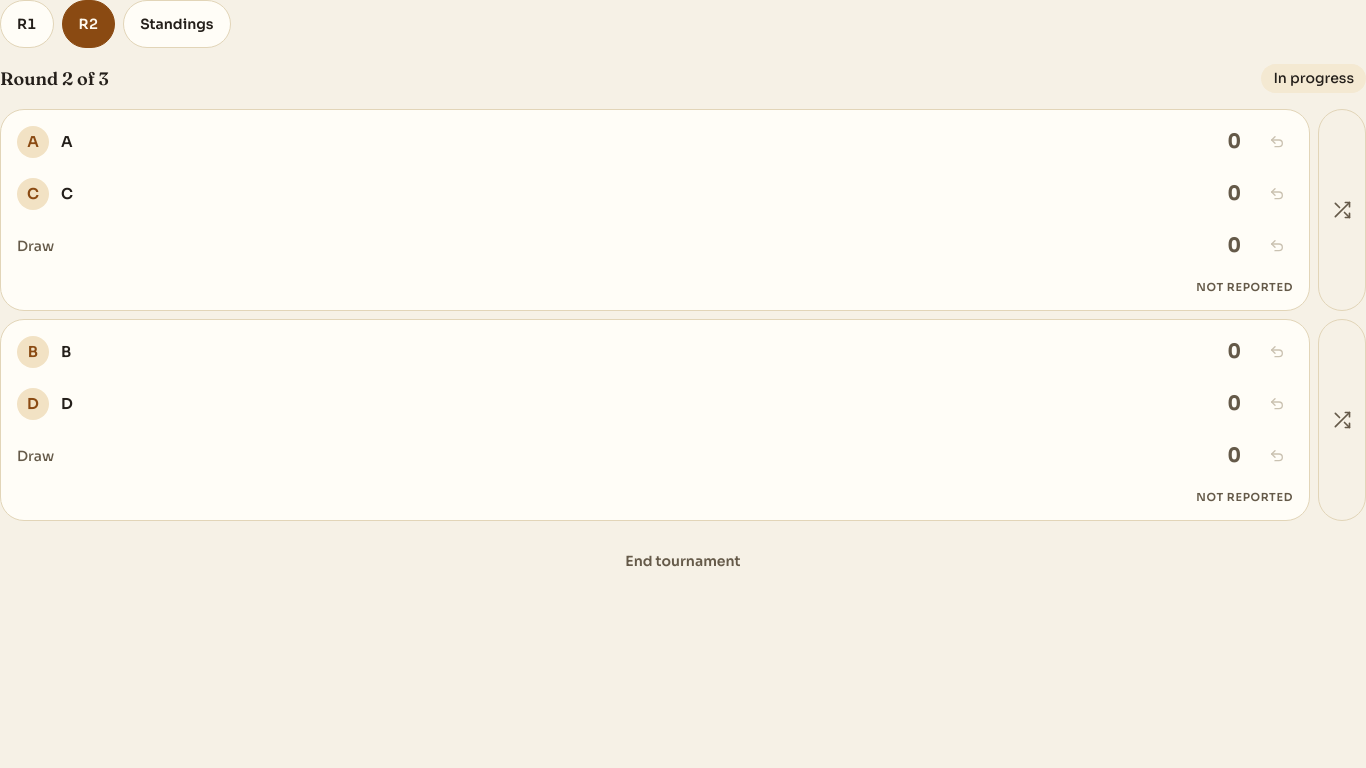
Test: SwissScreen › re-pairs later rounds when a corrected result asks for it
Click the button "R1": (27, 24) [0,0,54,48]
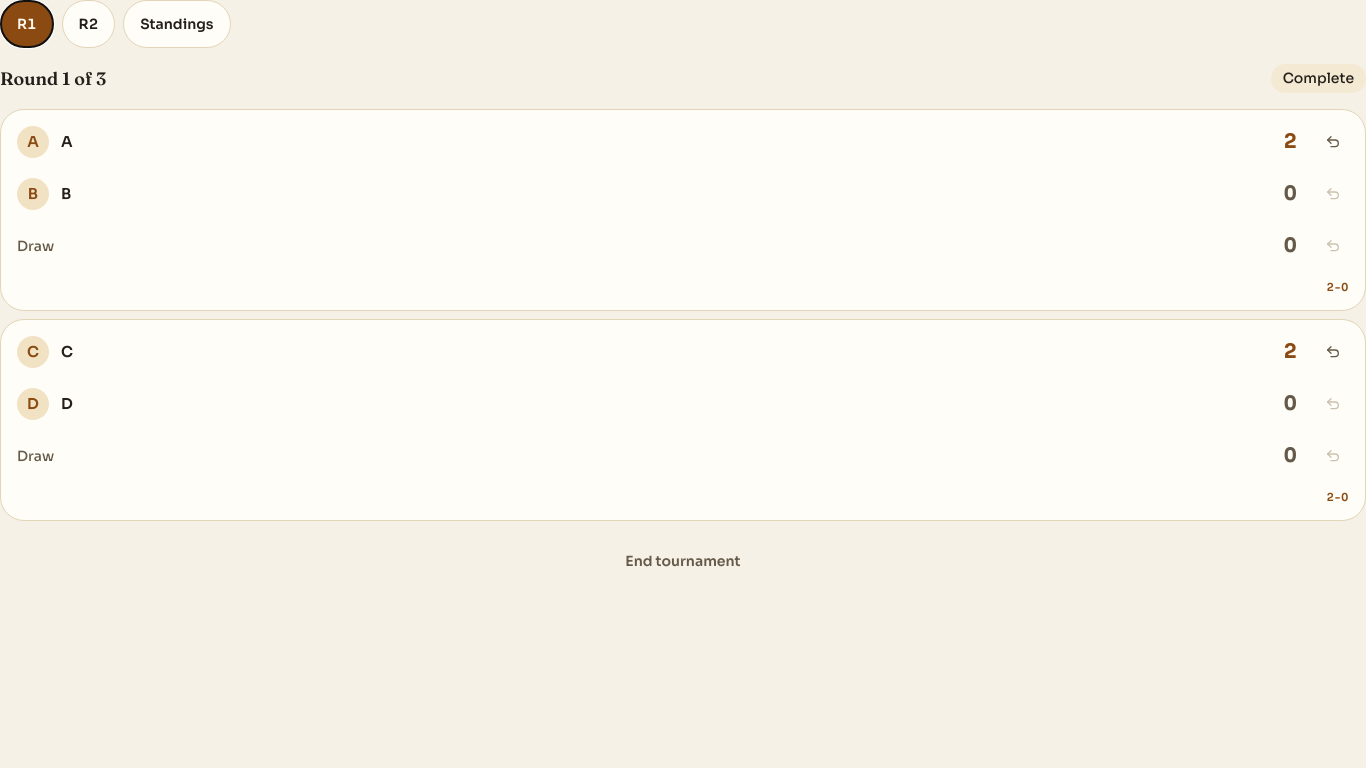
Click the button named "Remove a game win for A": (1333, 142) [1309,118,1357,166]
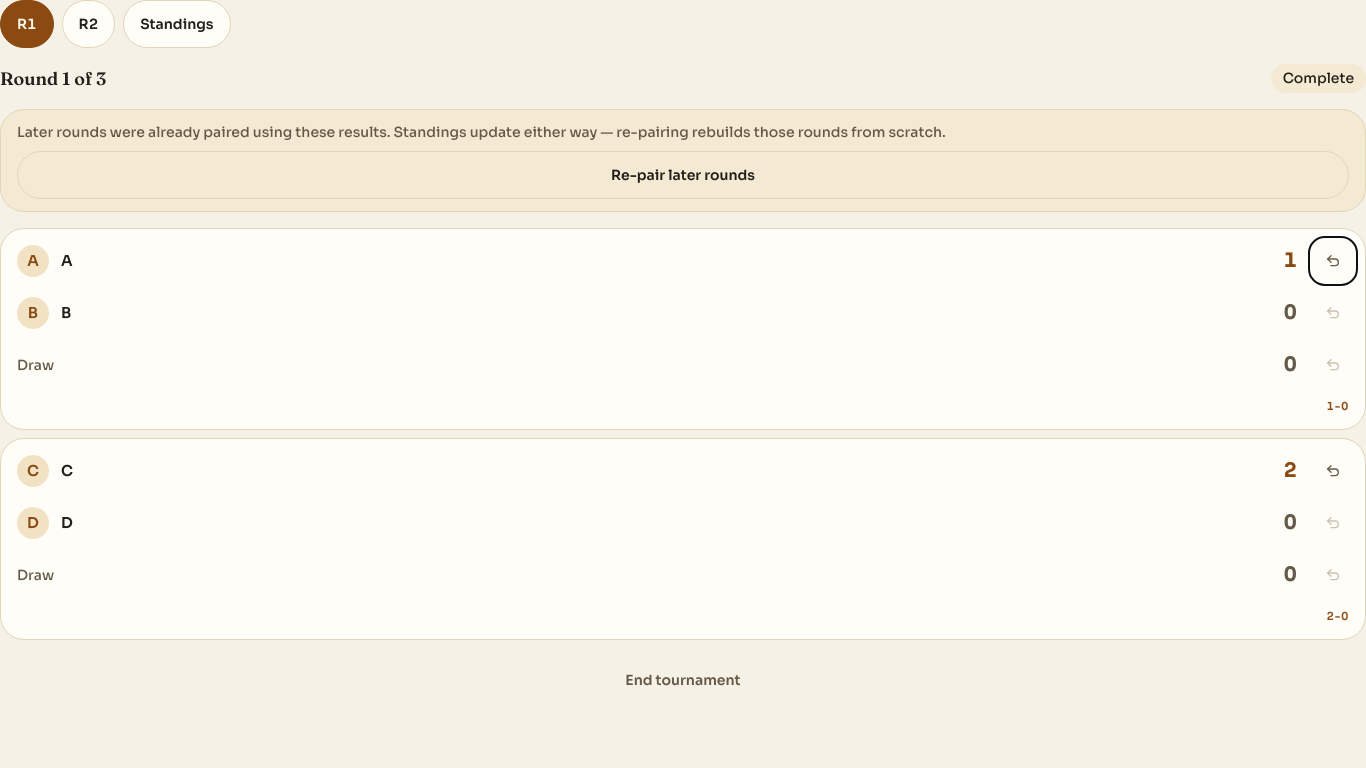
Click the button "Re-pair later rounds": (683, 175) [17,151,1349,199]
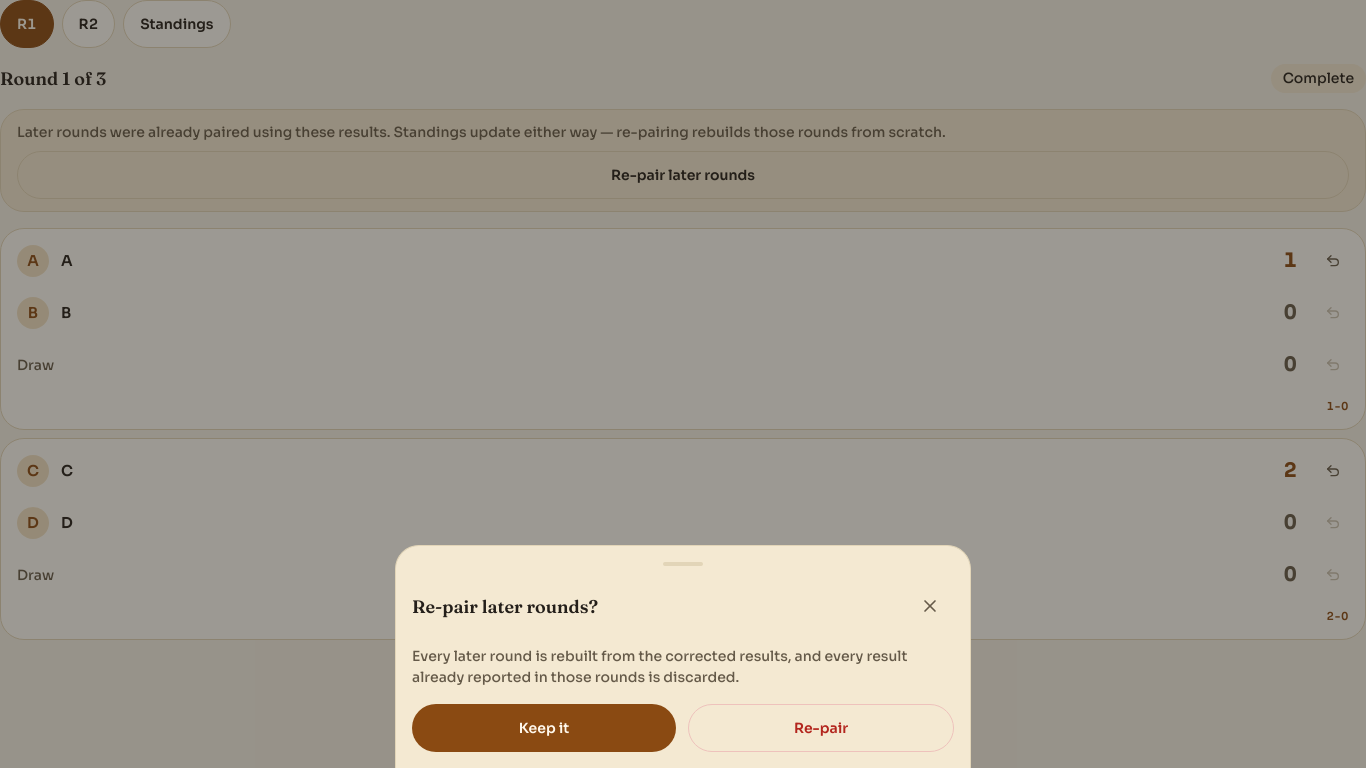
Click the button "Re-pair": (821, 728) [688,704,954,752]
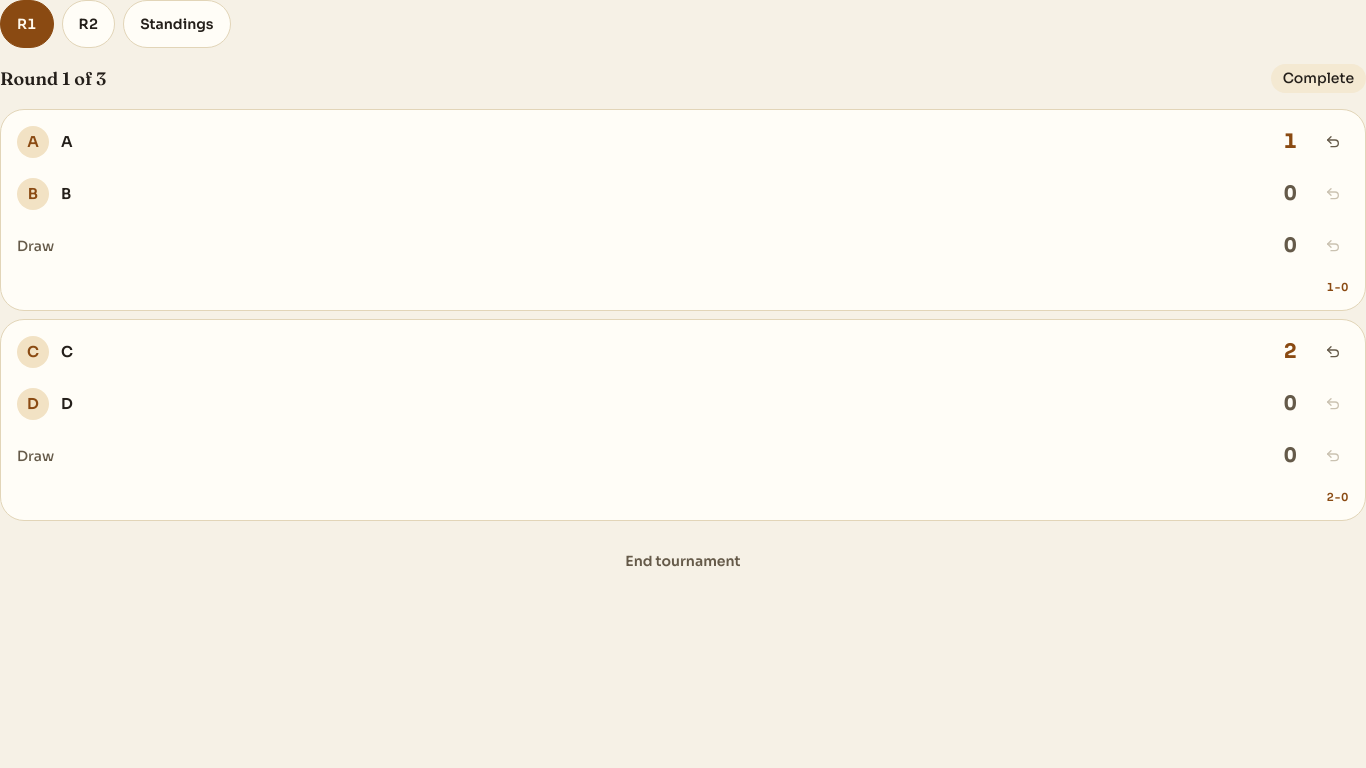
# Round 2 still exists, rebuilt from the corrected standings.
Click the button "R2": (88, 24) [62,0,115,48]
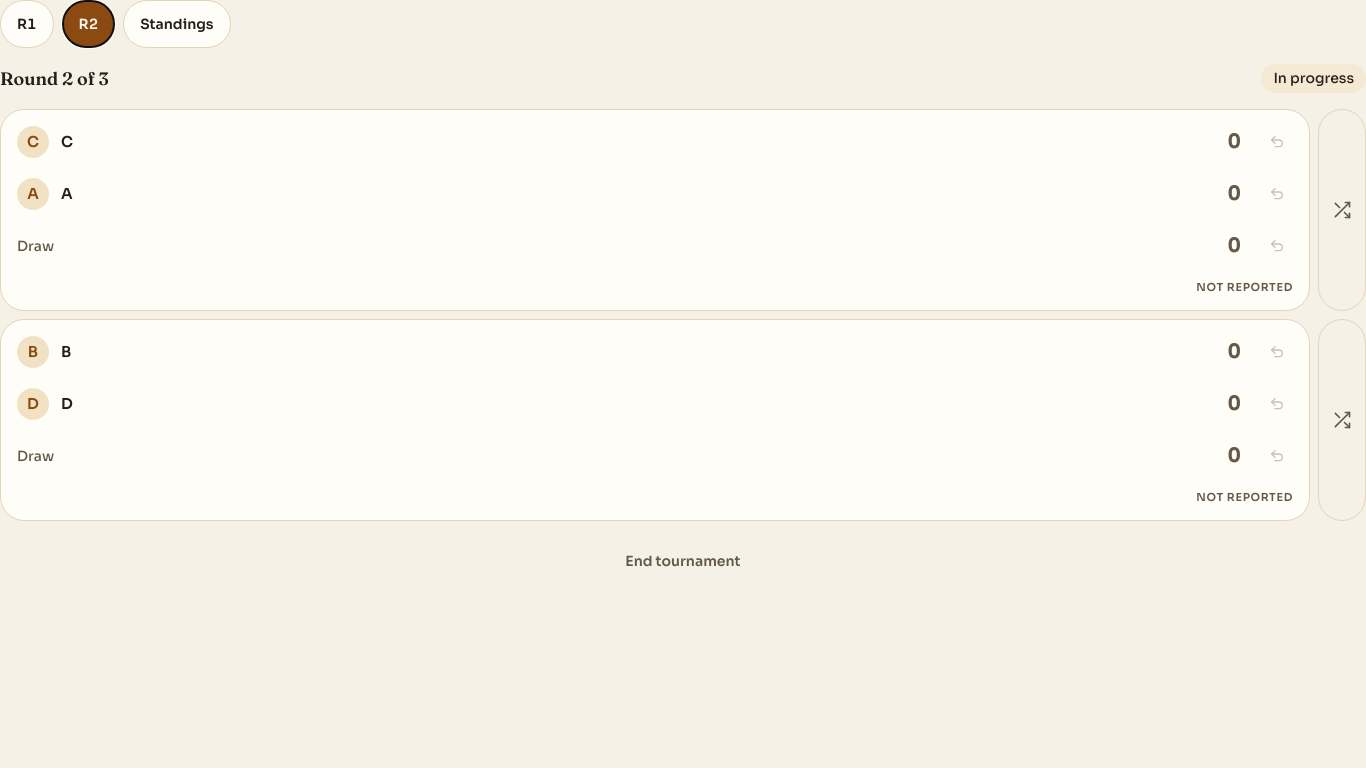
Result: the heading "Round 2 of 3" is shown at [0,65,109,92]
